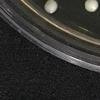white: (43, 0, 60, 15), (84, 0, 100, 14)
